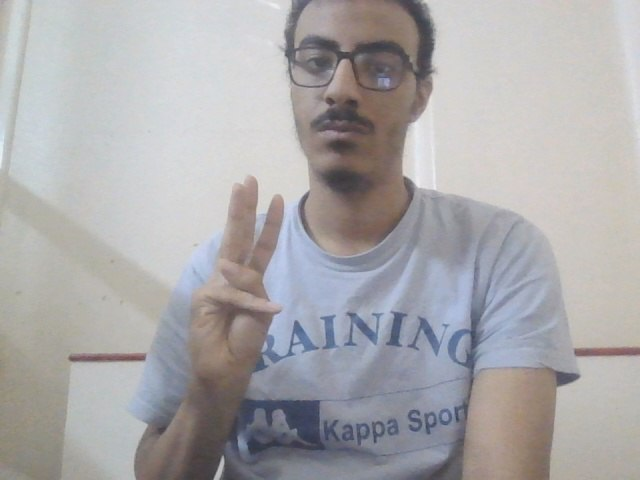Water: (186, 173, 291, 387)
